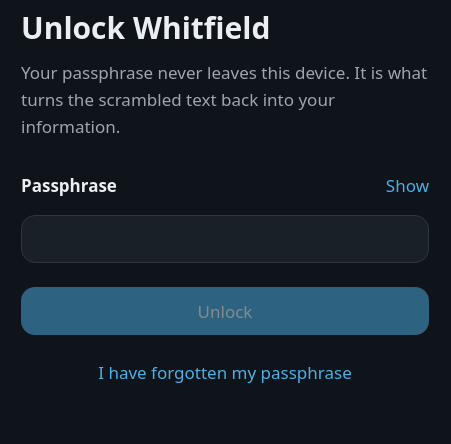
Test case: unlocking › says the passphrase is wrong rather than talking about decryption
Type "a guess" into the password field named "Passphrase".
click(225, 239); type("a guess")  # box [21,215,429,263]
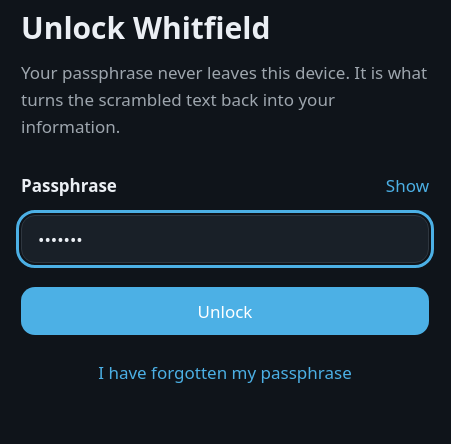
Click the button "Unlock".
click(225, 311)  # box [21,287,429,335]
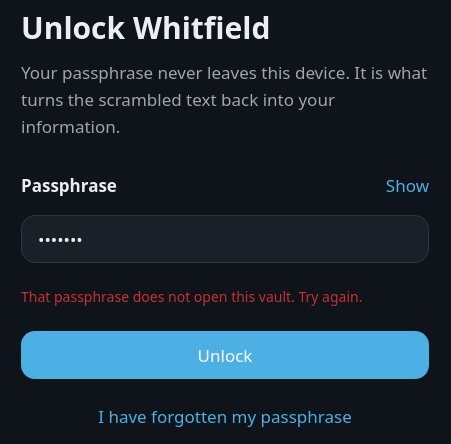
Result: the message shows "passphrase does not open this vault" at [21,287,362,306]
